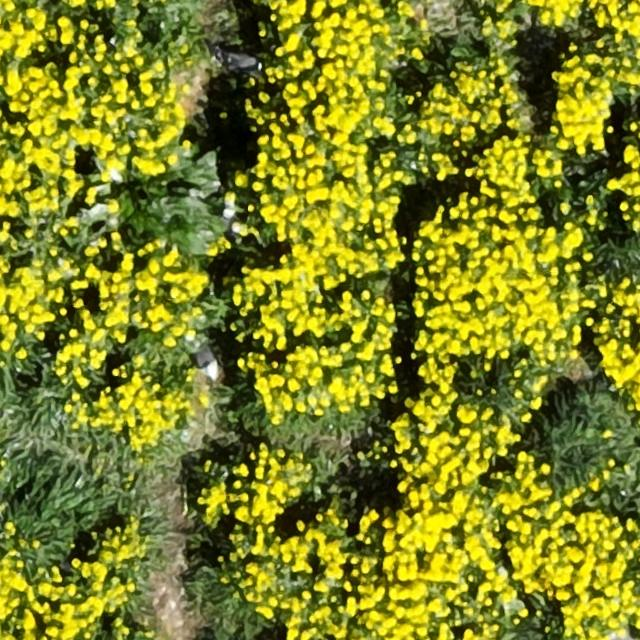umineko: (194, 343, 219, 380), (220, 52, 260, 70)
